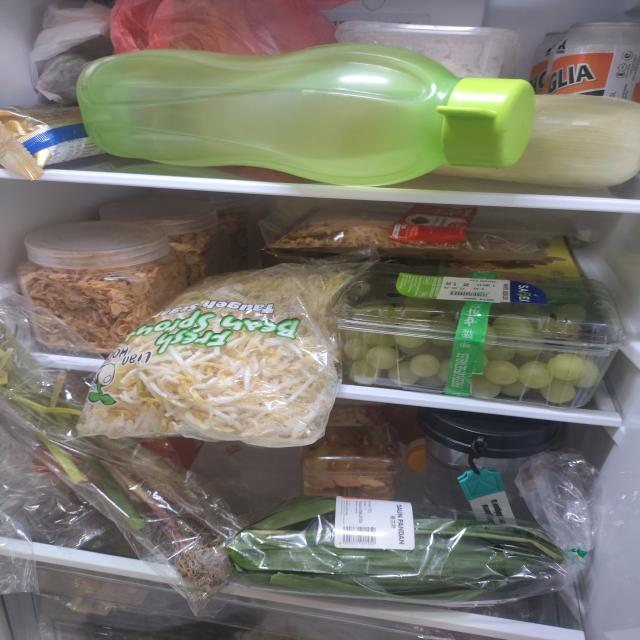bean_sprouts: (75, 260, 354, 448)
corn: (428, 94, 640, 191)
grape: (343, 297, 602, 405)
leafy_greens: (227, 492, 568, 608)
spring_onion: (0, 311, 243, 596)
